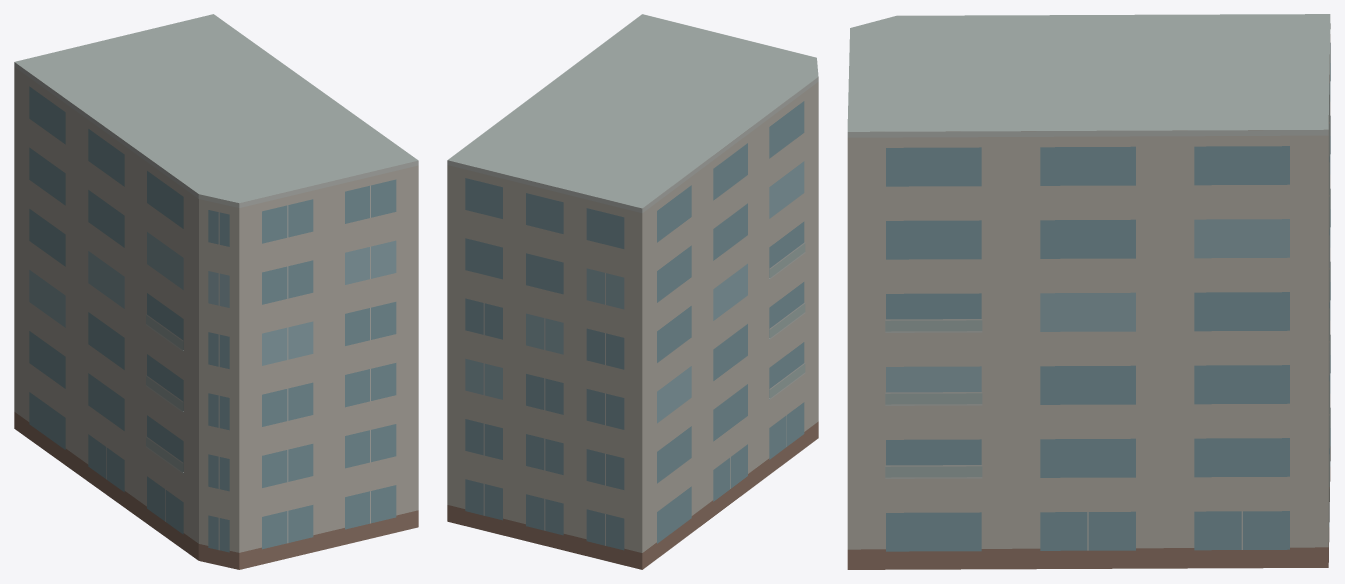
File: survey-upis-32700558.glb
The picture shows the model from 3 angles, left to right: view 1: azimuth 30°, elevation 25°; view 2: azimuth 150°, elevation 25°; view 3: azimuth 270°, elevation 25°; orthographic projection. The views are drawn at different scales.
Parts seen in each view (by area): view 1: survey-upis-32700558.tmp; view 2: survey-upis-32700558.tmp; view 3: survey-upis-32700558.tmp.
Part boxes in pixels (x1,y1,x2,y2): survey-upis-32700558.tmp: [14, 14, 418, 569]; survey-upis-32700558.tmp: [447, 14, 818, 569]; survey-upis-32700558.tmp: [847, 14, 1330, 569].
Bounding box in the file's own units: 10.59 × 18.3 × 18.3.
